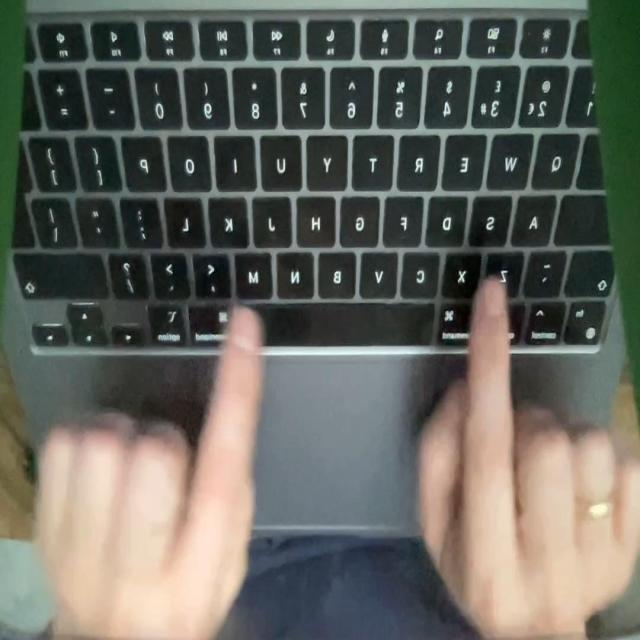keyboard-with-hands: (2, 0, 627, 537)
